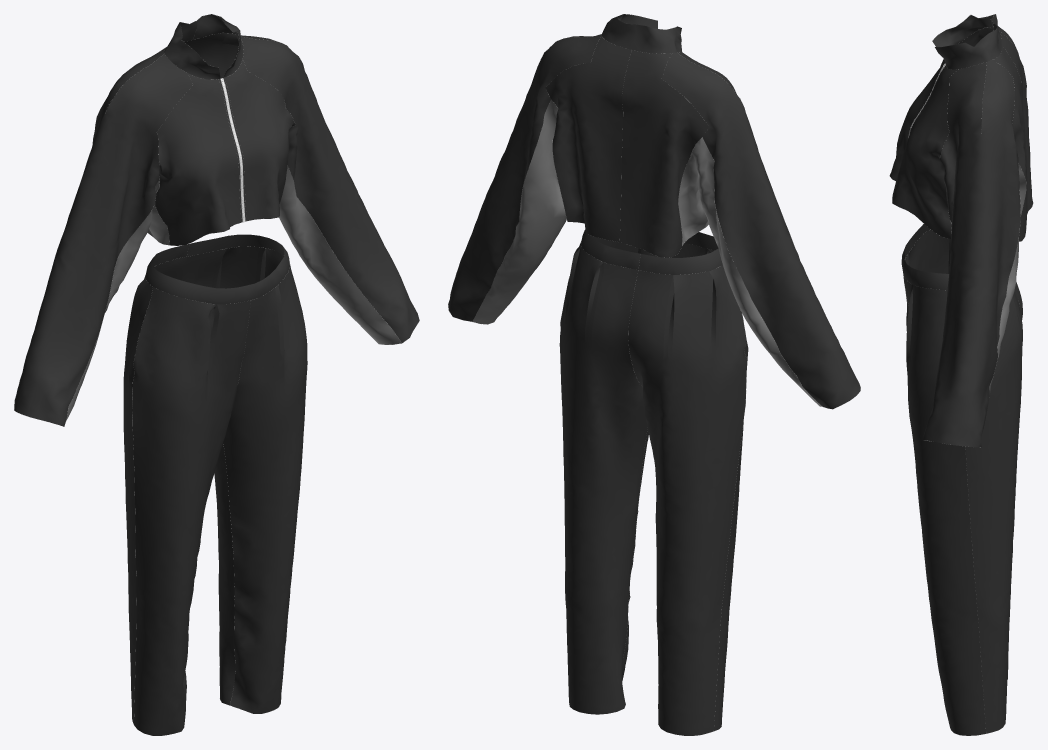
Rendered from asset.glb.
3 renders of one model, left to right at view 1: azimuth 30°, elevation 25°; view 2: azimuth 150°, elevation 25°; view 3: azimuth 270°, elevation 25°, orthographic. The views are drawn at different scales.
Visible parts, largest first — view 1: Cloth, Pattern_903620, Pattern_903619, Pattern_952658, Pattern_952659, Pattern_33675; view 2: Cloth, Pattern_952659, Pattern_952658, Pattern_33675, Pattern_903620, Pattern_903619; view 3: Cloth, Pattern_903619, Pattern_952658, Pattern_903620, Pattern_33675.
Part boxes in pixels (bbox=[...]): Cloth: bbox=[14, 14, 419, 426]; Pattern_903620: bbox=[133, 287, 250, 735]; Pattern_903619: bbox=[223, 254, 307, 713]; Pattern_952658: bbox=[182, 246, 282, 705]; Pattern_952659: bbox=[123, 256, 186, 724]; Pattern_33675: bbox=[145, 234, 289, 304]; Cloth: bbox=[448, 14, 860, 409]; Pattern_952659: bbox=[628, 265, 746, 735]; Pattern_952658: bbox=[559, 241, 647, 714]; Pattern_33675: bbox=[581, 230, 722, 274]; Pattern_903620: bbox=[673, 243, 748, 731]; Pattern_903619: bbox=[590, 235, 673, 680]; Cloth: bbox=[889, 14, 1033, 447]; Pattern_903619: bbox=[903, 275, 985, 735]; Pattern_952658: bbox=[965, 289, 1022, 733]; Pattern_903620: bbox=[904, 229, 949, 330]; Pattern_33675: bbox=[901, 224, 948, 290].
Bounding box in the file's own units: 0.8785 × 1.45 × 0.2783.
12 materials, 12 textured.
